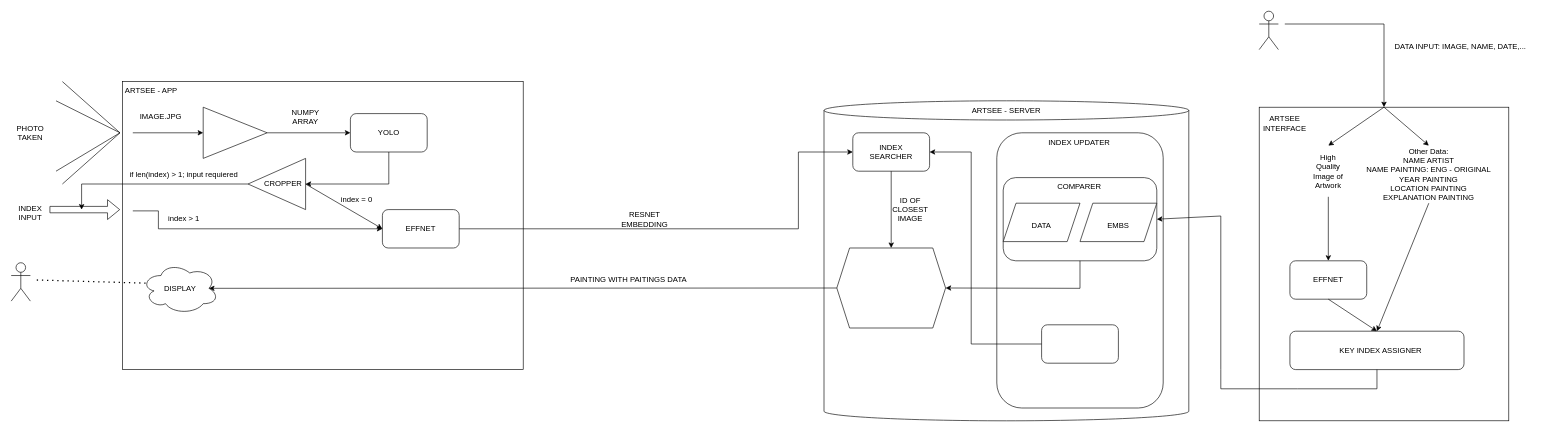
Some shapes in this 1552 by 432 pixel diagram are drawn without their labels. Here are the shapes that lost their labels. From the top down, the centre of each, then its label:
At pixel 1268 30: "MUSEUM".
At pixel 235 132: "CONVERTER".
At pixel 20 281: "Actor".
At pixel 891 287: "DATA RETRIEVER".
At pixel 1079 343: "EMBS RETRIEVER".
